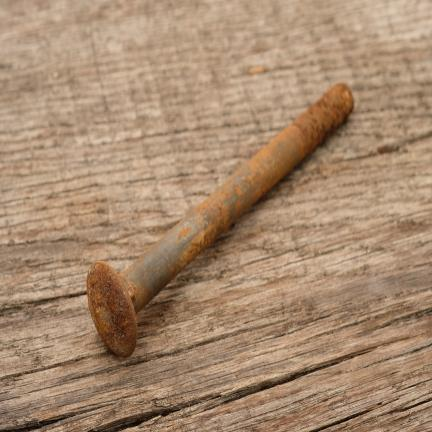karat: (168, 84, 355, 259), (139, 181, 252, 273), (87, 246, 179, 358)
